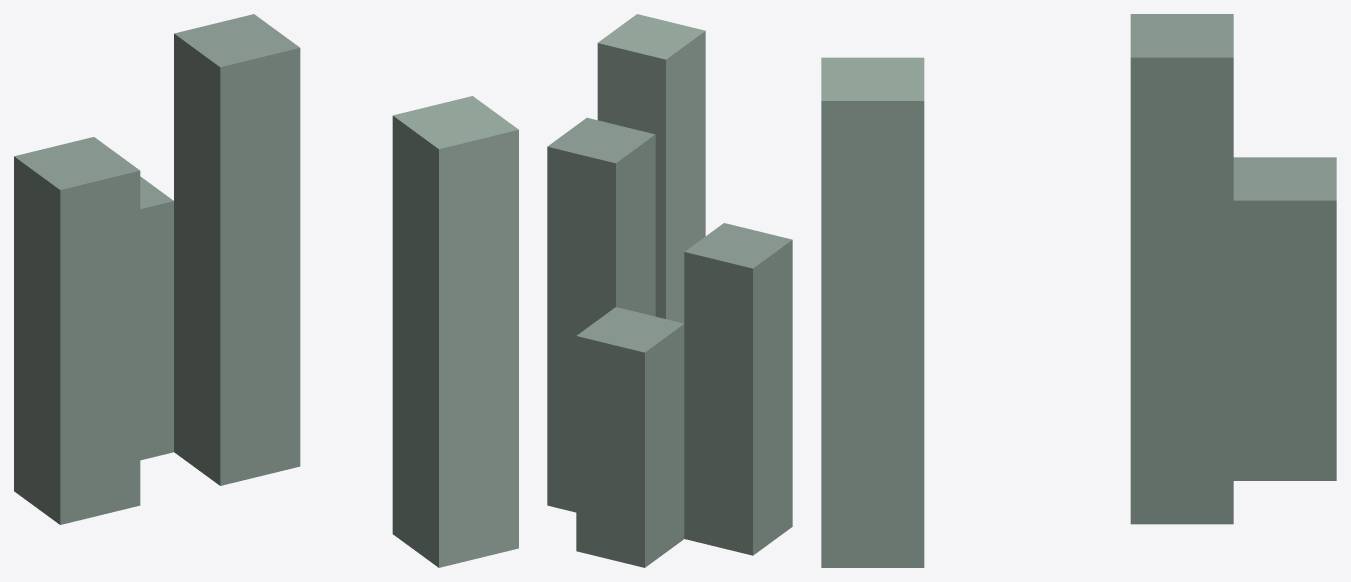
The model's file is musgo_de_altura_02.glb.
The picture shows the model from 3 angles, left to right: view 1: azimuth 30°, elevation 25°; view 2: azimuth 150°, elevation 25°; view 3: azimuth 270°, elevation 25°; orthographic projection. The views are drawn at different scales.
Parts seen in each view (by area): view 1: musgo_de_altura_02; view 2: musgo_de_altura_02; view 3: musgo_de_altura_02.
Part boxes in pixels (x1,y1,x2,y2): musgo_de_altura_02: (14,14,518,567); musgo_de_altura_02: (547,14,792,567); musgo_de_altura_02: (821,14,1336,567).
Size of the model in its own units: 0.4 by 0.5 by 0.5.
